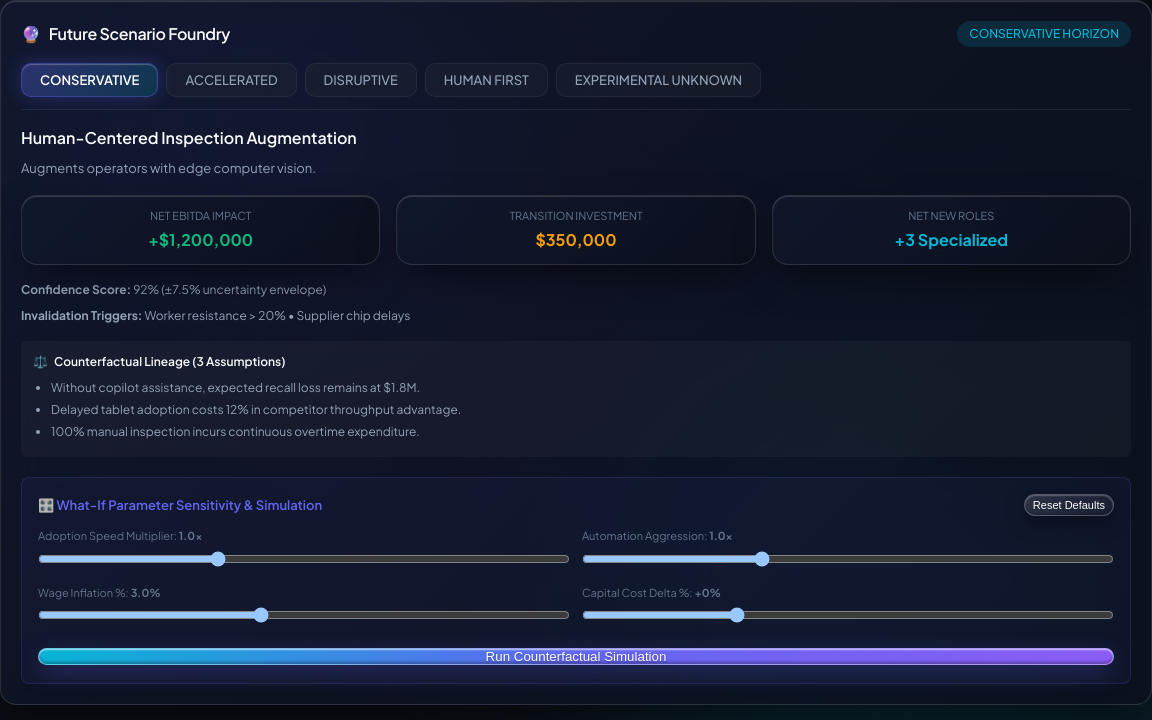
Scenario: ScenarioCard Component › switches tabs across different scenario classes
This screenshot has width=1152, height=720.
Click Accelerated tab
Click the tab "ACCELERATED" at (231, 80), box left=166, top=63, right=296, bottom=97
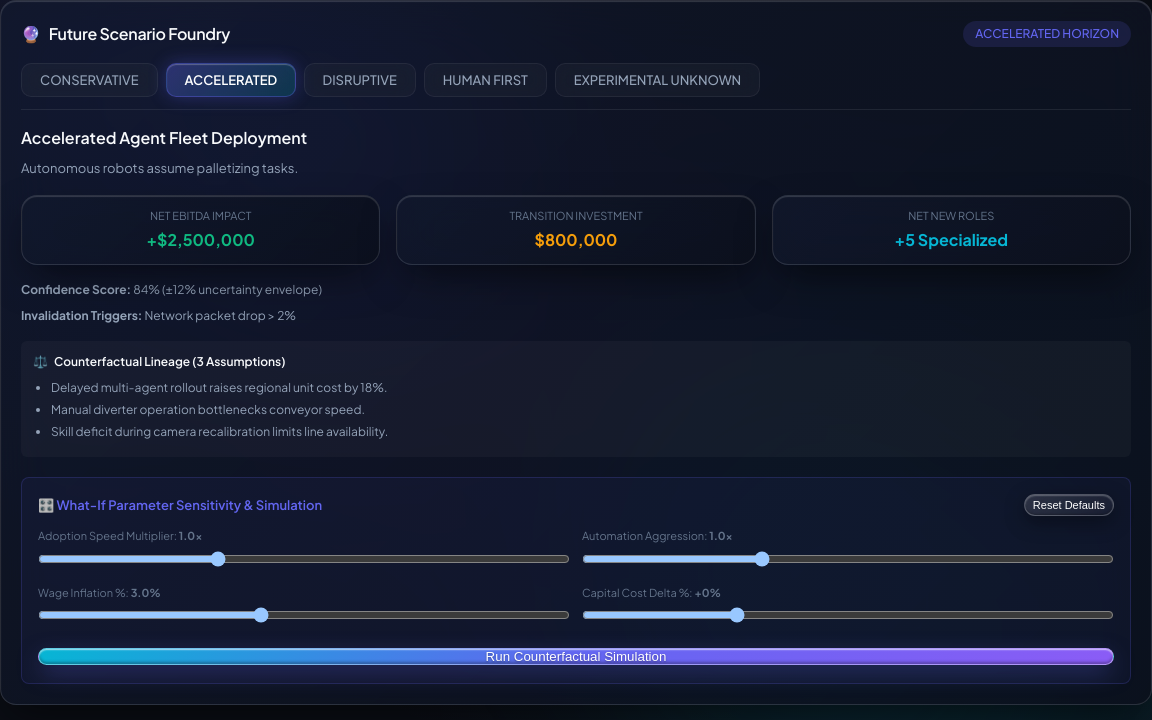
Check: the heading "Accelerated Agent Fleet Deployment" is shown, box left=21, top=127, right=307, bottom=148
Check: the text "ACCELERATED HORIZON" is shown, box left=963, top=21, right=1131, bottom=47
Click Disruptive tab
Click the tab "DISRUPTIVE" at (360, 80), box left=304, top=63, right=416, bottom=97
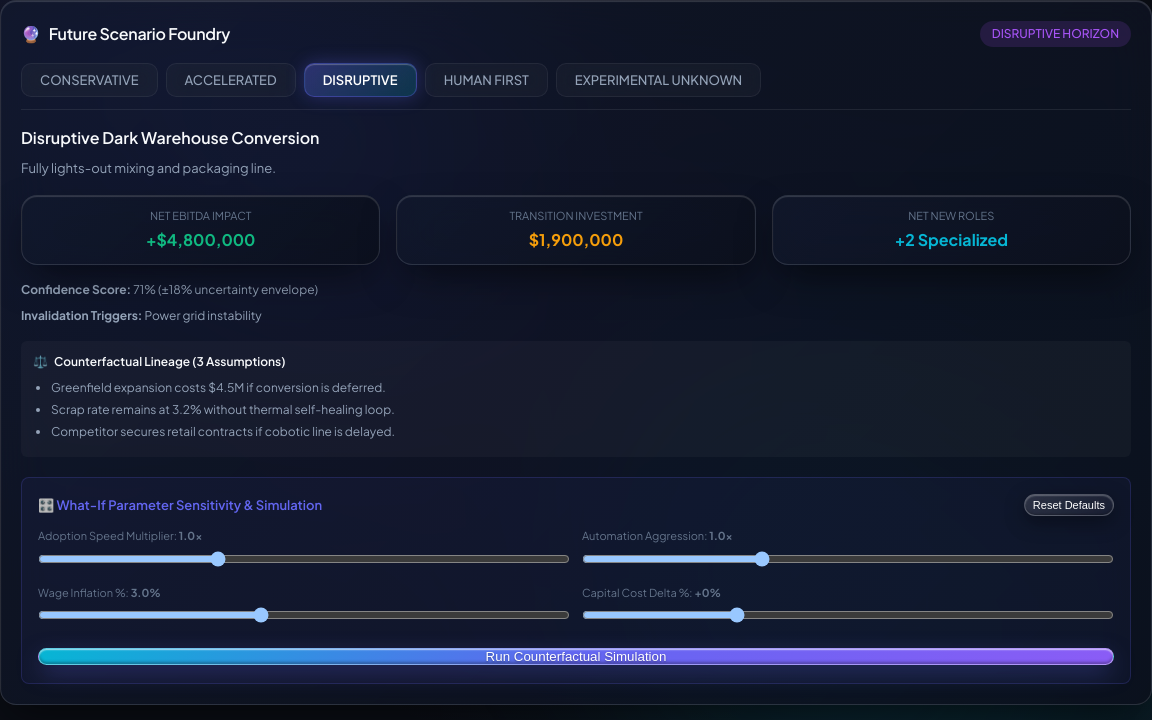
Check: the heading "Disruptive Dark Warehouse Conversion" is shown, box left=21, top=127, right=320, bottom=148
Check: the text "DISRUPTIVE HORIZON" is shown, box left=980, top=21, right=1131, bottom=47
Click Human First tab
Click the tab "HUMAN FIRST" at (486, 80), box left=424, top=63, right=548, bottom=97
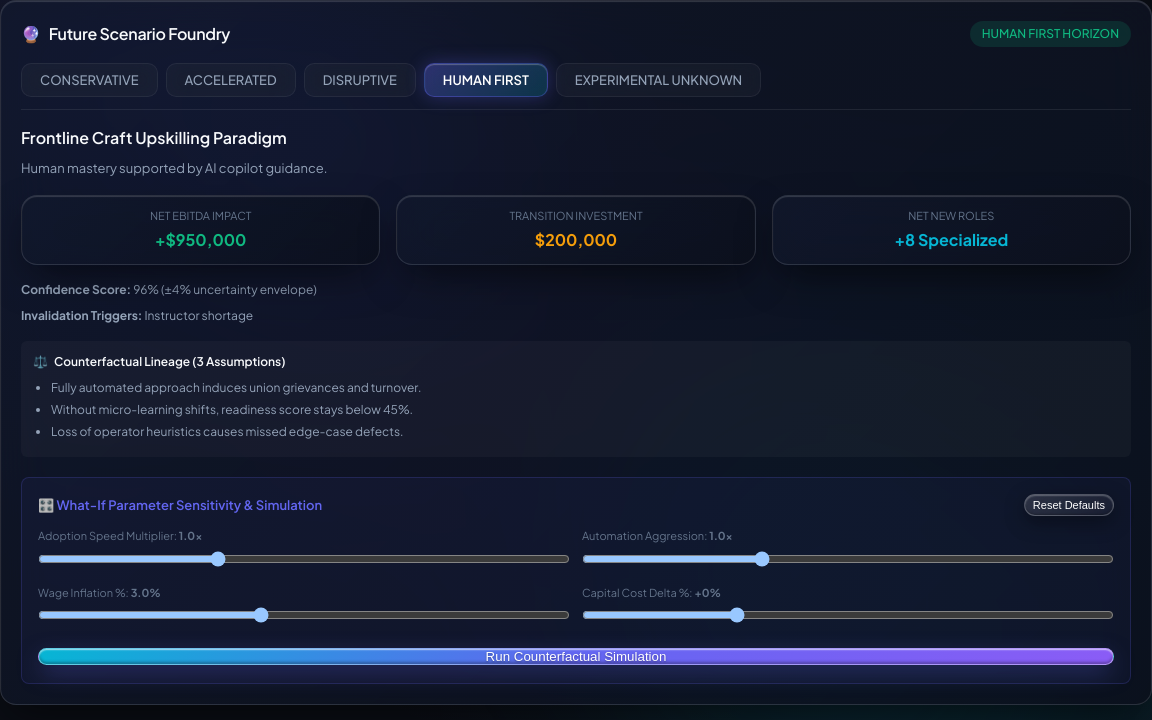
Check: the heading "Frontline Craft Upskilling Paradigm" is shown, box left=21, top=127, right=287, bottom=148
Check: the text "HUMAN FIRST HORIZON" is shown, box left=970, top=21, right=1131, bottom=47
Click Experimental / fallback style tab
Click the tab "EXPERIMENTAL UNKNOWN" at (659, 80), box left=556, top=63, right=761, bottom=97
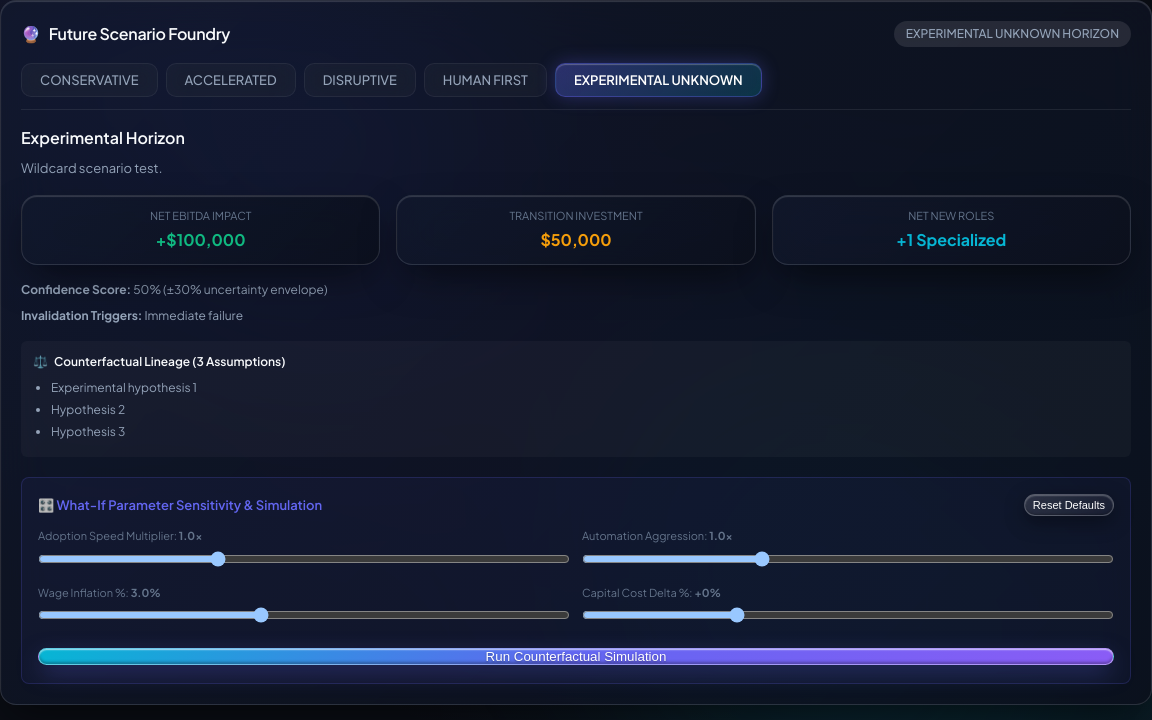
Check: the heading "Experimental Horizon" is shown, box left=21, top=127, right=185, bottom=148
